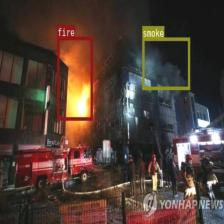fire: (57, 36, 92, 119)
smoke: (142, 37, 190, 89)
